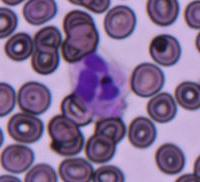N: (70, 50, 131, 120)
